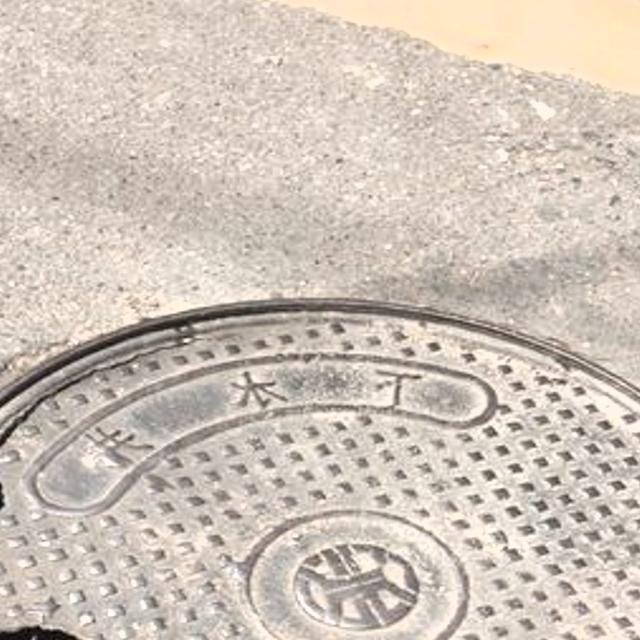broke: (0, 259, 640, 640)
